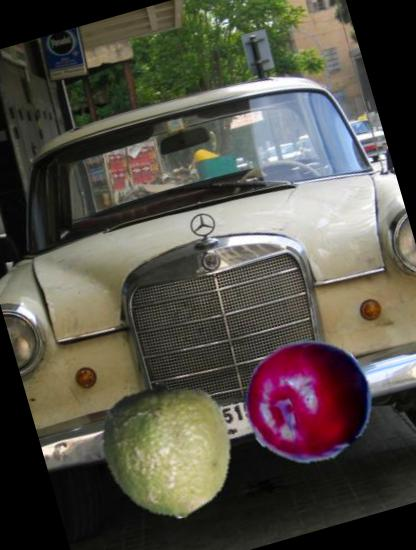Limes: (81, 365, 252, 536)
Plum: (228, 321, 388, 481)
